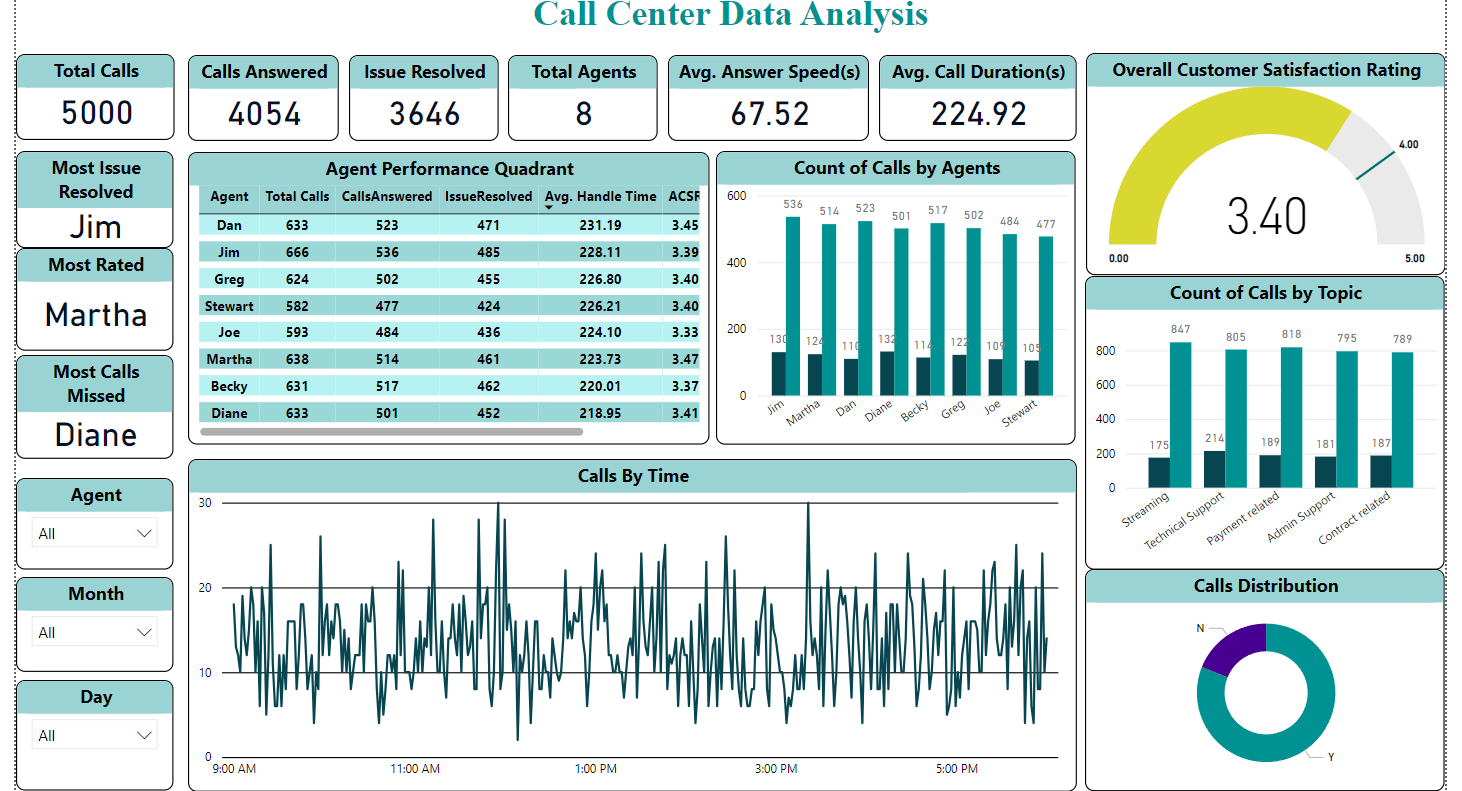

The dashboard page shown, as its layout file describes it:
{"tool":"powerbi","page":{"name":"Page 1","canvas":[1280,720],"ordinal":0},"visuals":[{"type":"card","title":"Total Calls","fields":{"Values":["Call Center Data.Call Id"]},"box":[0,60.3,142,76.8],"z":0},{"type":"card","title":"Calls Answered","fields":{"Values":["Call Center Data.CallsAnswered"]},"box":[153.6,60.5,135,76.8],"z":1000},{"type":"card","title":"Avg. Answer Speed(s)","fields":{"Values":["Call Center Data.Speed of answer in seconds"]},"box":[584.1,60.5,180.4,76.8],"z":2000},{"type":"card","title":"Total Agents","fields":{"Values":["Call Center Data.Agent"]},"box":[441,60.5,133.8,76.8],"z":3000},{"type":"card","title":"Issue Resolved","fields":{"Values":["Call Center Data.IssueResolved"]},"box":[297.9,60.5,133.8,76.8],"z":4000},{"type":"gauge","title":"Overall Customer Satisfaction Rating","fields":{"Y":["Call Center Data.Satisfaction rating"]},"box":[958.1,59.3,321.9,199.4],"z":5000},{"type":"card","title":"Avg. Call Duration(s)","fields":{"Values":["Call Center Data.AvgCallDuration(s)"]},"box":[772.7,60.5,176.9,76.8],"z":6000},{"type":"donutChart","title":"Calls Distribution","fields":{"Category":["Call Center Data.Answered (Y/N)"],"Y":["Call Center Data.Call Id"]},"box":[957.3,521.2,322.4,198.8],"z":7000},{"type":"clusteredColumnChart","title":"Count of Calls by Topic","fields":{"Category":["Call Center Data.Topic"],"Y":["Call Center Data.Call Id"],"Series":["Call Center Data.Answered (Y/N)"]},"box":[957.7,259.2,322.3,262.5],"z":8000},{"type":"clusteredColumnChart","title":"Count of Calls by Agents","fields":{"Category":["Call Center Data.Agent"],"Y":["Call Center Data.Call Id"],"Series":["Call Center Data.Answered (Y/N)"]},"box":[627.2,146.6,322.3,263],"z":9000},{"type":"tableEx","title":"Agent Performance Quadrant","fields":{"Values":["Call Center Data.Agent","Call Center Data.Call Id","Call Center Data.CallsAnswered","Call Center Data.IssueResolved","Call Center Data.AvgCallDuration(s)","Call Center Data.Satisfaction rating","Call Center Data.%TotalCallsAnswered"]},"box":[153.6,147.8,466.6,261.8],"z":10000},{"type":"lineChart","title":"Calls By Time","fields":{"Category":["Call Center Data.Time"],"Y":["Call Center Data.Call Id"]},"box":[153.6,422.4,795.9,297.9],"z":11000},{"type":"card","title":"Most Issue Resolved","fields":{"Values":["Call Center Data.Agent"]},"box":[0,147,141.5,86.5],"z":12000},{"type":"card","title":"Most Rated","fields":{"Values":["Call Center Data.Agent"]},"box":[0,233.5,141.5,92],"z":13000},{"type":"card","title":"Most Calls Missed","fields":{"Values":["Call Center Data.Agent"]},"box":[0,329.6,141.5,93.4],"z":14000},{"type":"slicer","title":"Agent","fields":{"Values":["Call Center Data.Agent"]},"box":[0,439.5,141.5,82.4],"z":15000},{"type":"slicer","title":"Month","fields":{"Values":["Call Center Data.MonthName"]},"box":[0,528.8,141.5,85.2],"z":16000},{"type":"slicer","title":"Day","fields":{"Values":["Call Center Data.Date.Variation.Date Hierarchy.Day"]},"box":[0,620.8,141.5,98.9],"z":17000},{"type":"textbox","box":[0,0,1280,50.8],"z":18000}]}

Visuals, with their boxes in screenshot pixels (x1, y1, x2, y2):
"Total Calls" card: rect(8, 60, 167, 147)
"Calls Answered" card: rect(180, 60, 332, 147)
"Avg. Answer Speed(s)" card: rect(664, 60, 867, 147)
"Total Agents" card: rect(504, 60, 654, 147)
"Issue Resolved" card: rect(343, 60, 493, 147)
"Overall Customer Satisfaction Rating" gauge: rect(1085, 59, 1447, 283)
"Avg. Call Duration(s)" card: rect(877, 60, 1075, 147)
"Calls Distribution" donutChart: rect(1084, 579, 1447, 790)
"Count of Calls by Topic" clusteredColumnChart: rect(1085, 284, 1447, 579)
"Count of Calls by Agents" clusteredColumnChart: rect(713, 157, 1075, 453)
"Agent Performance Quadrant" tableEx: rect(180, 159, 705, 453)
"Calls By Time" lineChart: rect(180, 467, 1075, 790)
"Most Issue Resolved" card: rect(8, 158, 167, 255)
"Most Rated" card: rect(8, 255, 167, 358)
"Most Calls Missed" card: rect(8, 363, 167, 468)
"Agent" slicer: rect(8, 487, 167, 579)
"Month" slicer: rect(8, 587, 167, 683)
"Day" slicer: rect(8, 691, 167, 790)
textbox: rect(8, 0, 1447, 50)
